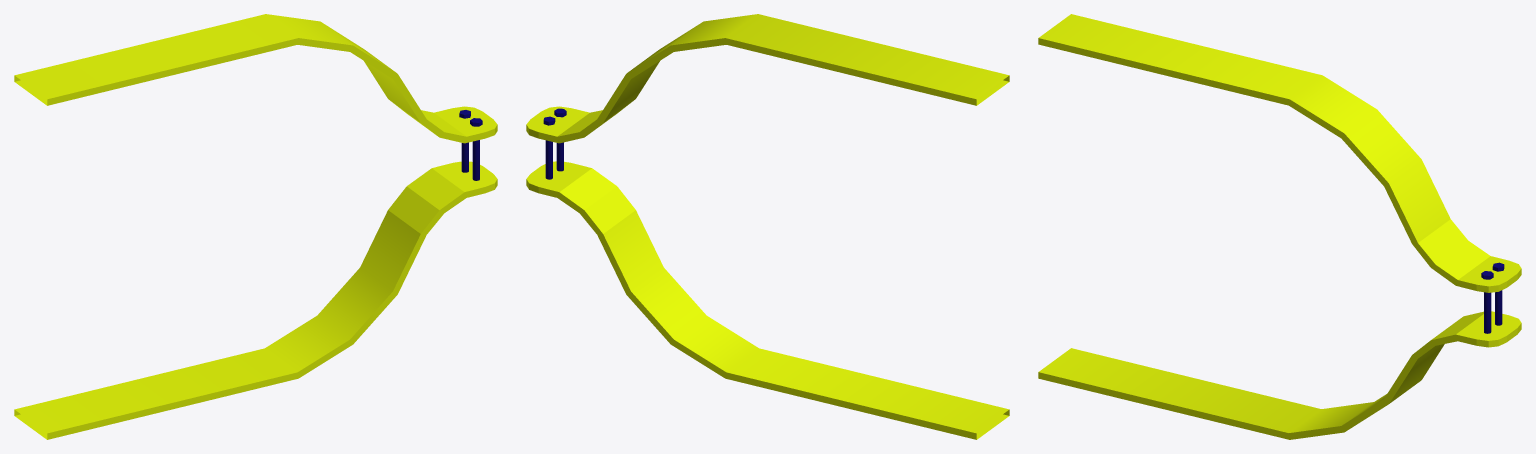
Rendered from Support_03_Full.FBX.
3 renders of one model, left to right at view 1: azimuth 30°, elevation 25°; view 2: azimuth 150°, elevation 25°; view 3: azimuth 330°, elevation 25°, orthographic.
Parts seen in each view (by area): view 1: Support_02_Low, Bolt; view 2: Support_02_Low, Bolt; view 3: Support_02_Low, Bolt.
Boxes of the visible parts, x1,y1,x2,y2 form: Support_02_Low: [14, 14, 497, 439]; Bolt: [459, 110, 482, 180]; Support_02_Low: [526, 14, 1009, 439]; Bolt: [543, 108, 566, 179]; Support_02_Low: [1038, 14, 1521, 439]; Bolt: [1481, 262, 1504, 333].
Size of the model in its own units: 43.96 by 31.29 by 5.46.
